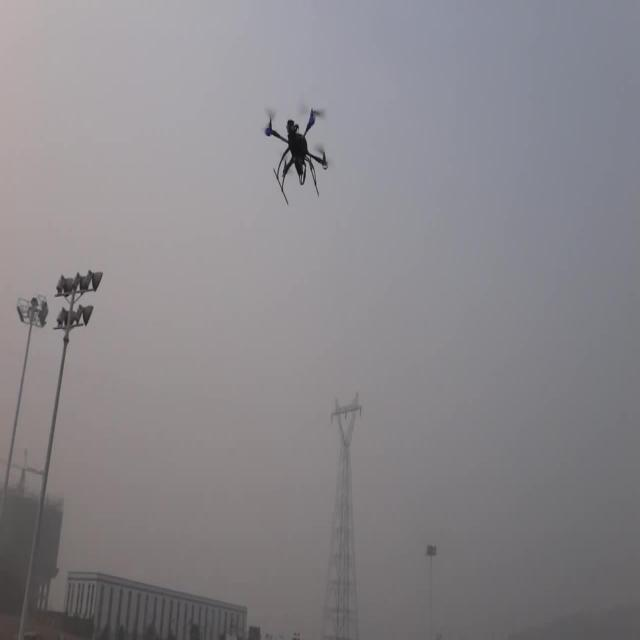UAV: (264, 108, 328, 206)
